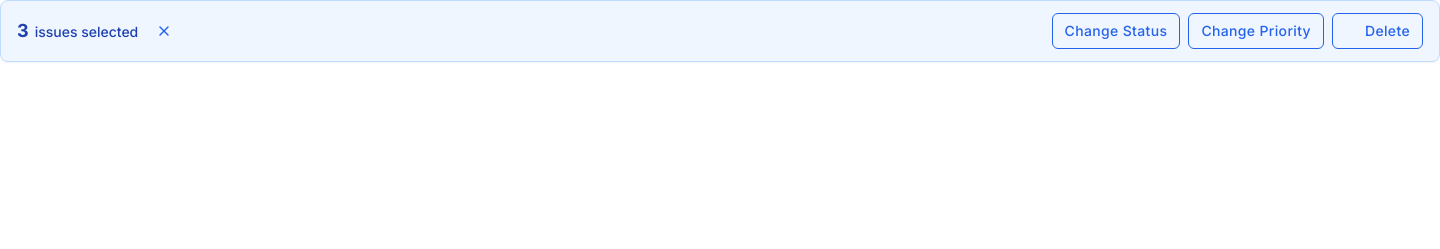
Test case: BulkActionsBar › opens status dropdown when clicked
Click the button "Change Status" at (1116, 31), box left=1052, top=13, right=1180, bottom=48
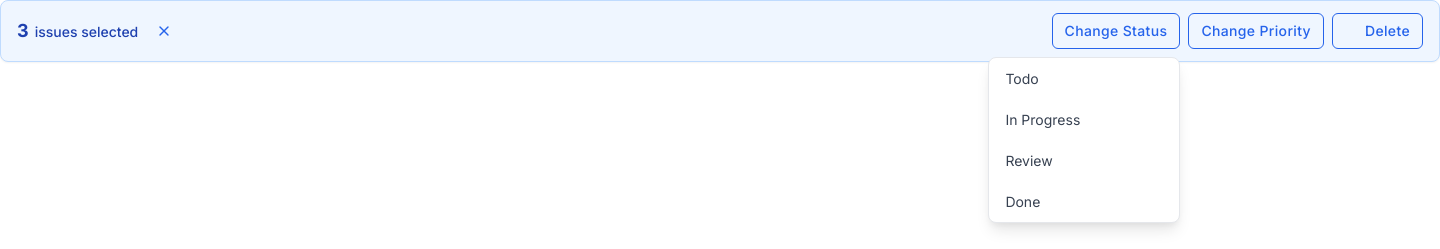
Result: the menu is shown at left=988, top=56, right=1180, bottom=222
Result: the menu item "Todo" is shown at left=989, top=58, right=1179, bottom=98
Result: the menu item "In Progress" is shown at left=989, top=98, right=1179, bottom=140
